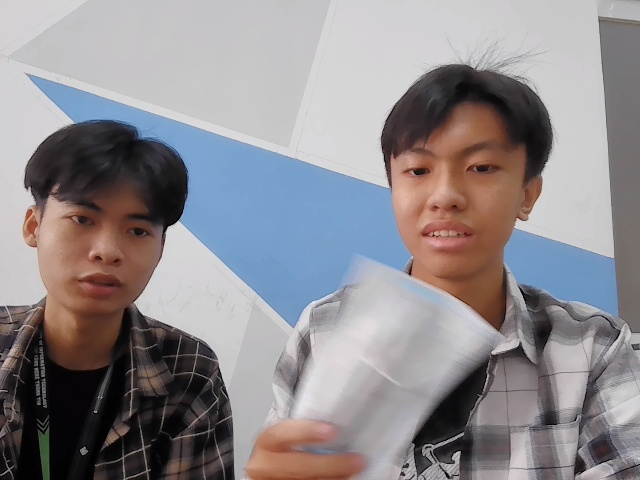human: (382, 64, 551, 279), (26, 120, 191, 316)
mask: (306, 267, 494, 478)
